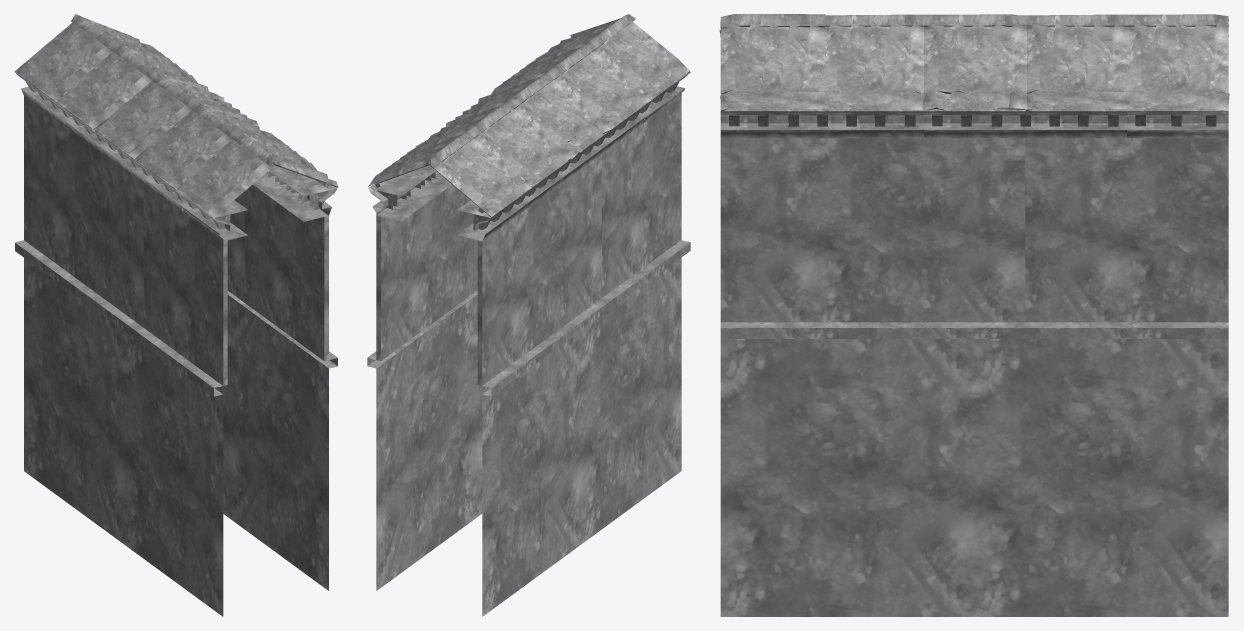
Rendered from SM_VistaCastle_05a.fbx.
The picture shows the model from 3 angles, left to right: view 1: azimuth 30°, elevation 25°; view 2: azimuth 150°, elevation 25°; view 3: azimuth 270°, elevation 25°; orthographic projection. The views are drawn at different scales.
Visible parts, largest first — view 1: SM_VistaCastle_05a_LOD0; view 2: SM_VistaCastle_05a_LOD0; view 3: SM_VistaCastle_05a_LOD0.
Boxes of the visible parts, x1,y1,x2,y2 form: SM_VistaCastle_05a_LOD0: [14, 14, 338, 616]; SM_VistaCastle_05a_LOD0: [367, 14, 690, 616]; SM_VistaCastle_05a_LOD0: [719, 14, 1229, 616].
Bounding box in the file's own units: 285 × 754 × 928.
